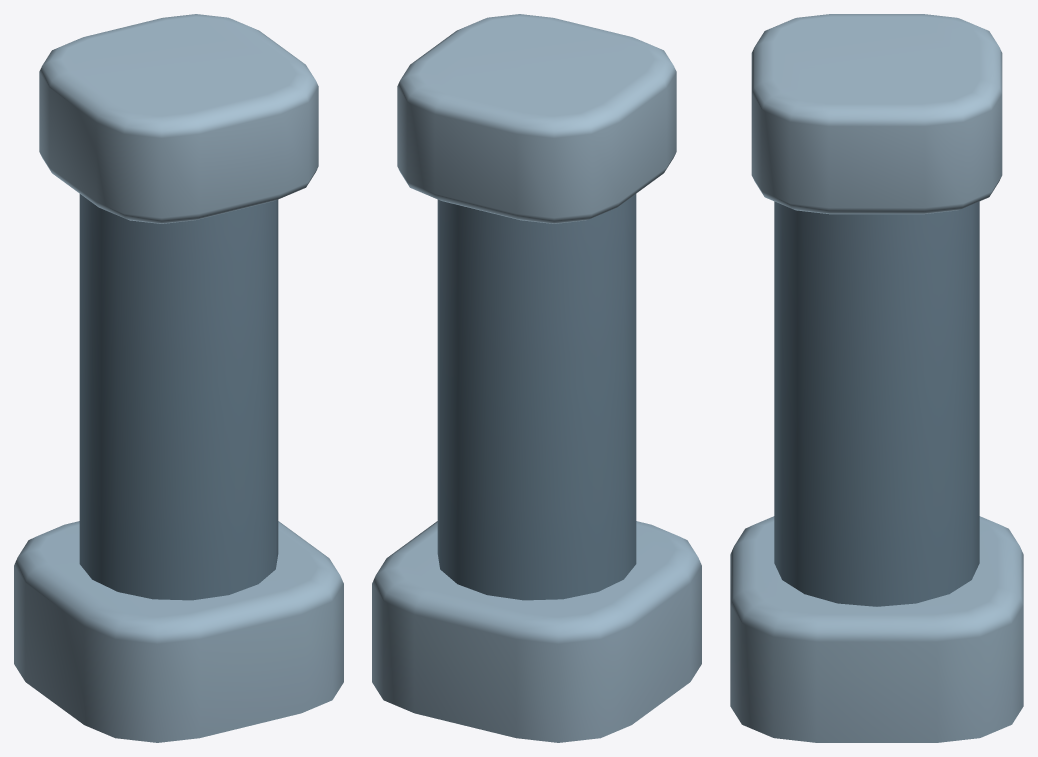
File: Env1_Pillar_Red.fbx
The picture shows the model from 3 angles, left to right: view 1: azimuth 30°, elevation 25°; view 2: azimuth 150°, elevation 25°; view 3: azimuth 270°, elevation 25°; orthographic projection. The views are drawn at different scales.
Parts seen in each view (by area): view 1: Env1_Pillar; view 2: Env1_Pillar; view 3: Env1_Pillar.
Boxes of the visible parts, box(x1,y1,x2,y2) form: Env1_Pillar: box(14, 14, 343, 742); Env1_Pillar: box(372, 14, 701, 742); Env1_Pillar: box(730, 14, 1023, 742).
Bounding box in the file's own units: 85.28 × 199 × 85.28.
